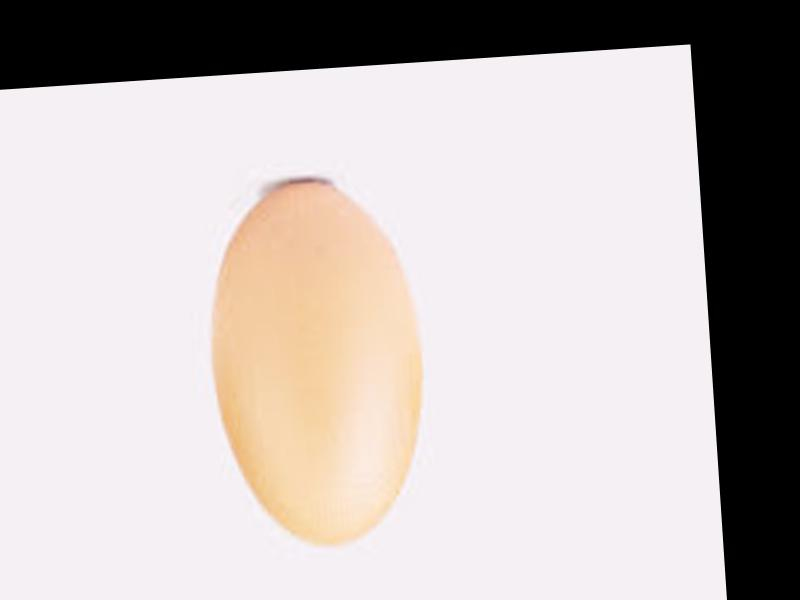Eggs: (202, 172, 431, 558)
